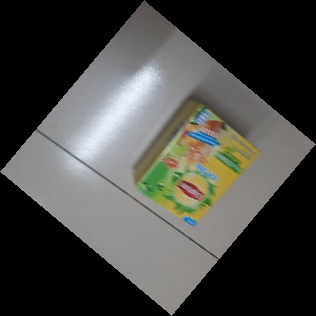LipTon: (133, 96, 262, 229)
